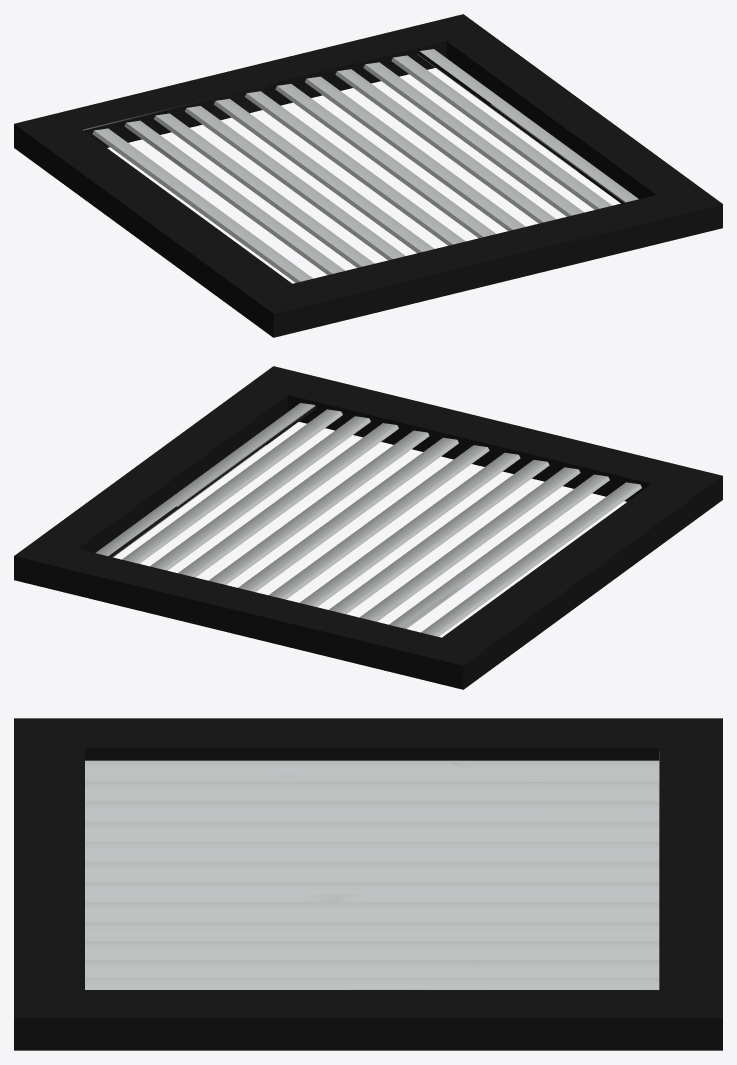
The model's file is vent_door.fbx.
3 renders of one model, top to bottom at view 1: azimuth 30°, elevation 25°; view 2: azimuth 150°, elevation 25°; view 3: azimuth 270°, elevation 25°, orthographic. The views are drawn at different scales.
Parts seen in each view (by area): view 1: pCube16; view 2: pCube16; view 3: pCube16.
Part boxes in pixels (x1,y1,x2,y2): pCube16: [14, 14, 722, 337]; pCube16: [14, 366, 722, 689]; pCube16: [14, 718, 722, 1050].
Size of the model in its own units: 54.32 by 2.79 by 54.32.
Materials: 1 (1 with a texture image).
